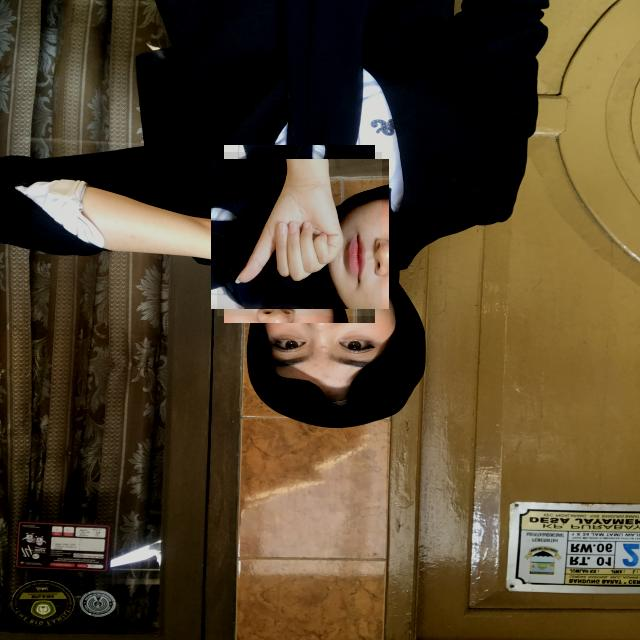sedih: (217, 152, 382, 316)
